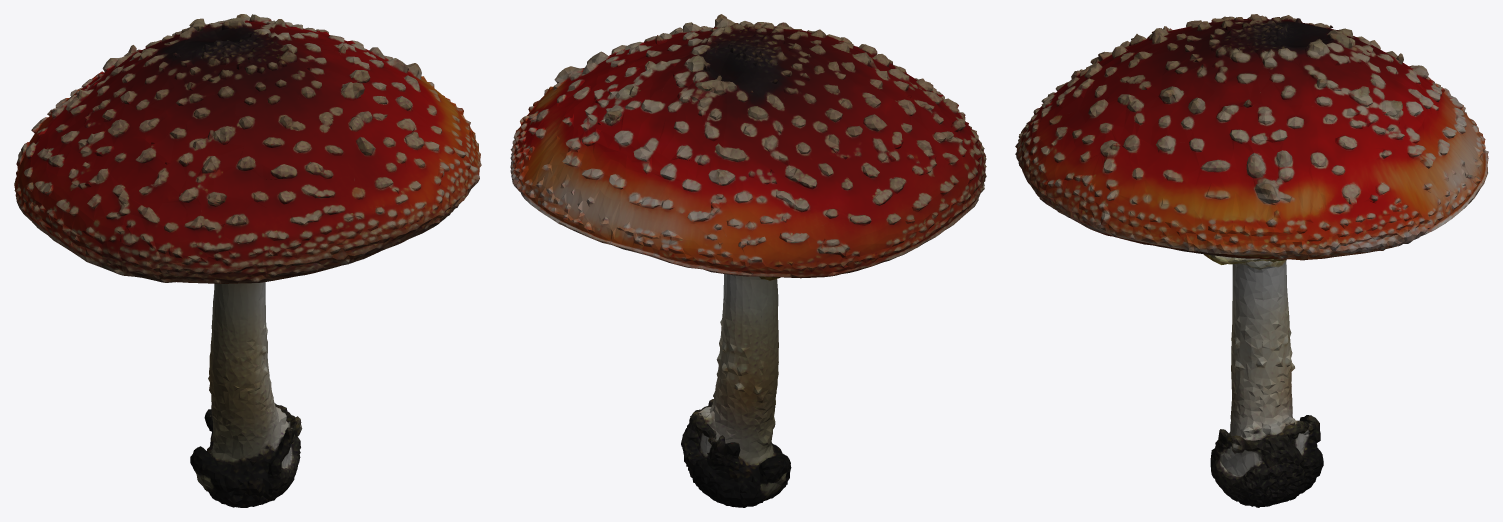
3 renders of one model, left to right at view 1: azimuth 30°, elevation 25°; view 2: azimuth 150°, elevation 25°; view 3: azimuth 270°, elevation 25°, orthographic. The views are drawn at different scales.
Visible parts, largest first — view 1: world; view 2: world; view 3: world.
Boxes of the visible parts, <box> form: world: <box>14,14,481,507</box>; world: <box>510,14,986,507</box>; world: <box>1015,14,1488,507</box>.
Size of the model in its own units: 0.9268 by 0.9992 by 0.9209.
1 material, 1 textured.
